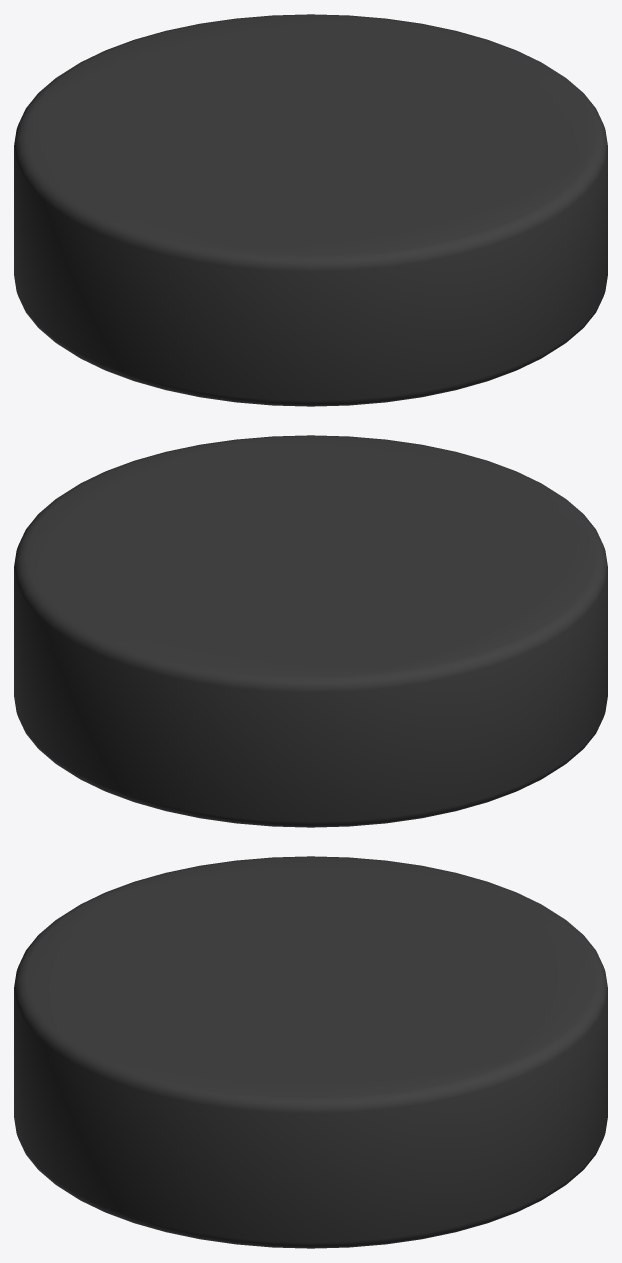
Rendered from A.Item.07.glb.
3 renders of one model, top to bottom at view 1: azimuth 30°, elevation 25°; view 2: azimuth 150°, elevation 25°; view 3: azimuth 270°, elevation 25°, orthographic.
Visible parts, largest first — view 1: A.Item.07; view 2: A.Item.07; view 3: A.Item.07.
Boxes of the visible parts, left/top/right/bottom form: A.Item.07: left=14, top=14, right=607, bottom=406; A.Item.07: left=14, top=435, right=607, bottom=827; A.Item.07: left=14, top=856, right=607, bottom=1248.
Bounding box in the file's own units: 0.4268 × 0.1184 × 0.4268.
Materials: 1 (1 with a texture image).
